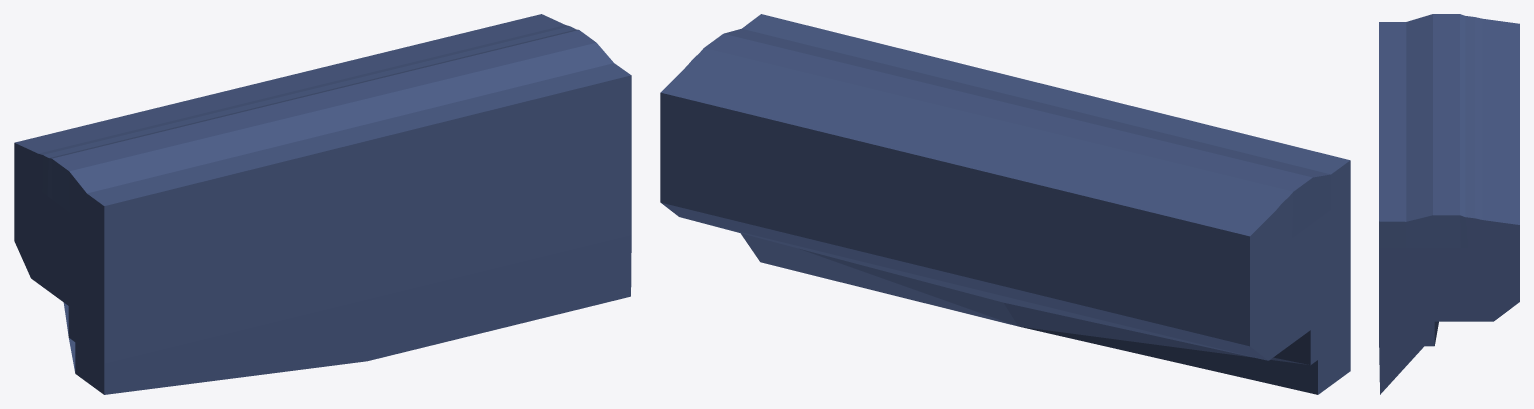
The model's file is hallwaymarbleedge_baked.fbx.
3 views of the same model, side by side, from view 1: azimuth 30°, elevation 25°; view 2: azimuth 150°, elevation 25°; view 3: azimuth 270°, elevation 25° (orthographic). The views are drawn at different scales.
Visible parts, largest first — view 1: HallwayLowFloor_LEDGE; view 2: HallwayLowFloor_LEDGE; view 3: HallwayLowFloor_LEDGE.
Part boxes in pixels (x1=…): HallwayLowFloor_LEDGE: x1=14, y1=14, x2=631, y2=394; HallwayLowFloor_LEDGE: x1=660, y1=14, x2=1350, y2=394; HallwayLowFloor_LEDGE: x1=1379, y1=14, x2=1519, y2=394.
Size of the model in its own units: 502 by 209 by 148.
